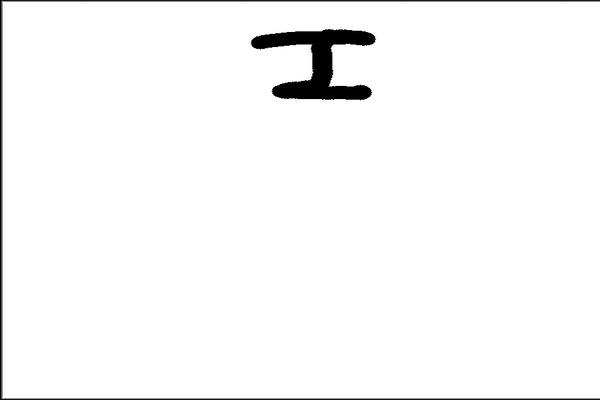i: (248, 18, 380, 109)
